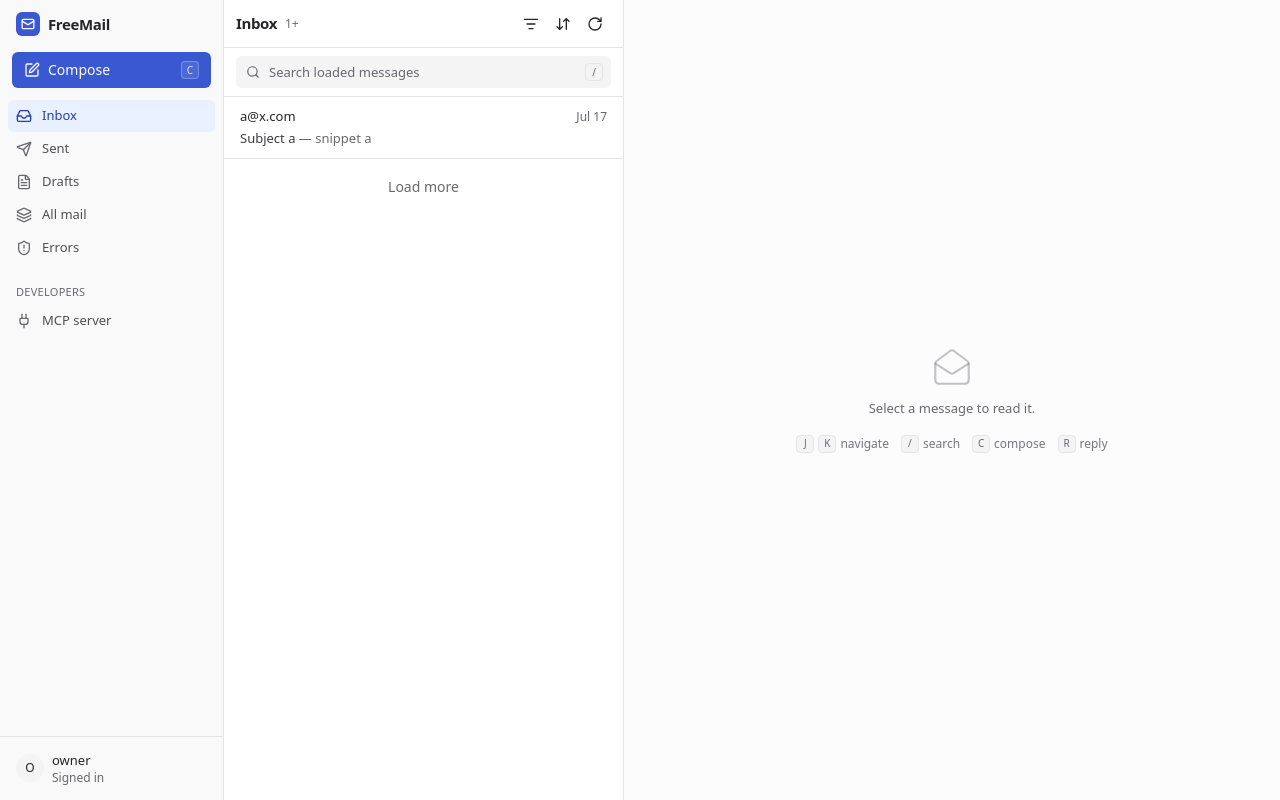
Test: AppShell — refresh › keeps the loaded rows when a refresh fails, and reports it
Expected: the text "Subject a" is shown, [240,128,296,146]
Click the button "Load more" at point(424, 187), box [236,171,611,203]
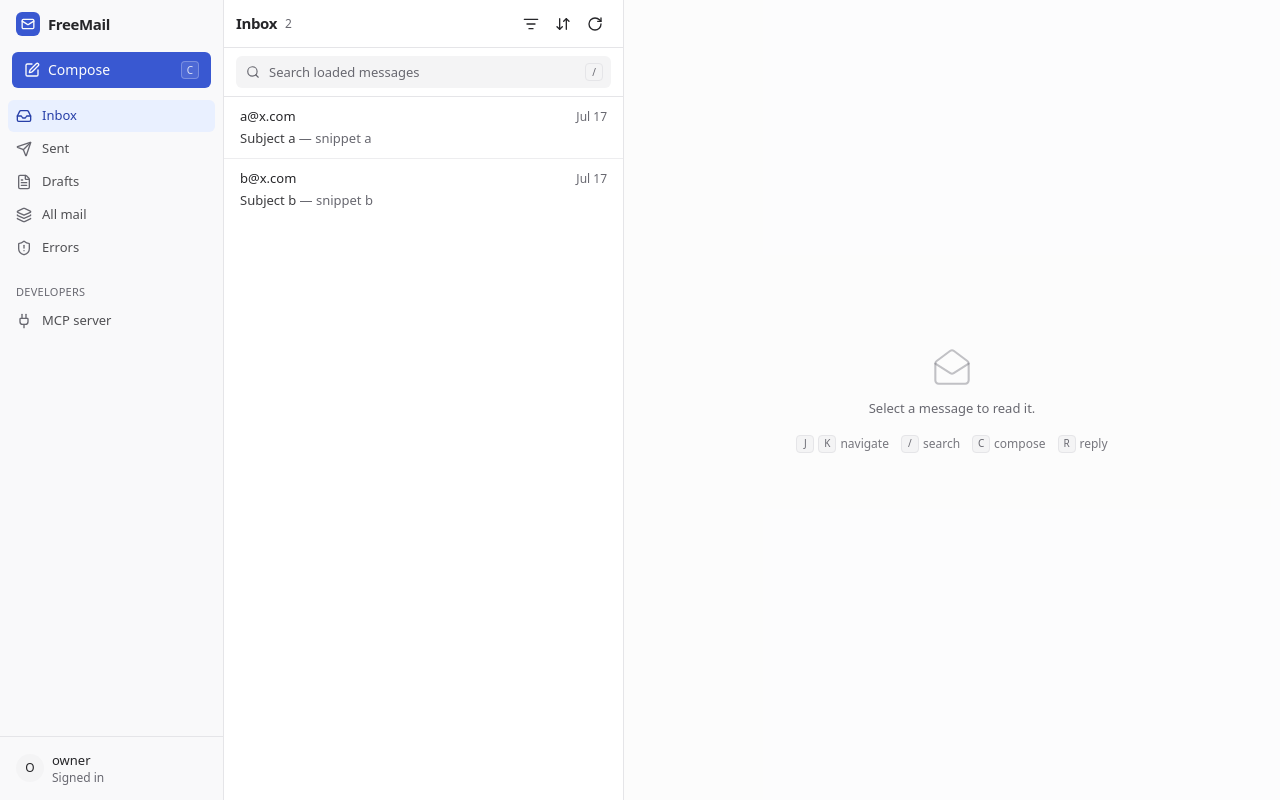
Expected: the text "Subject b" is shown, [240,190,296,208]
Click the button named "Refresh" at point(595, 24), box [579,8,611,40]
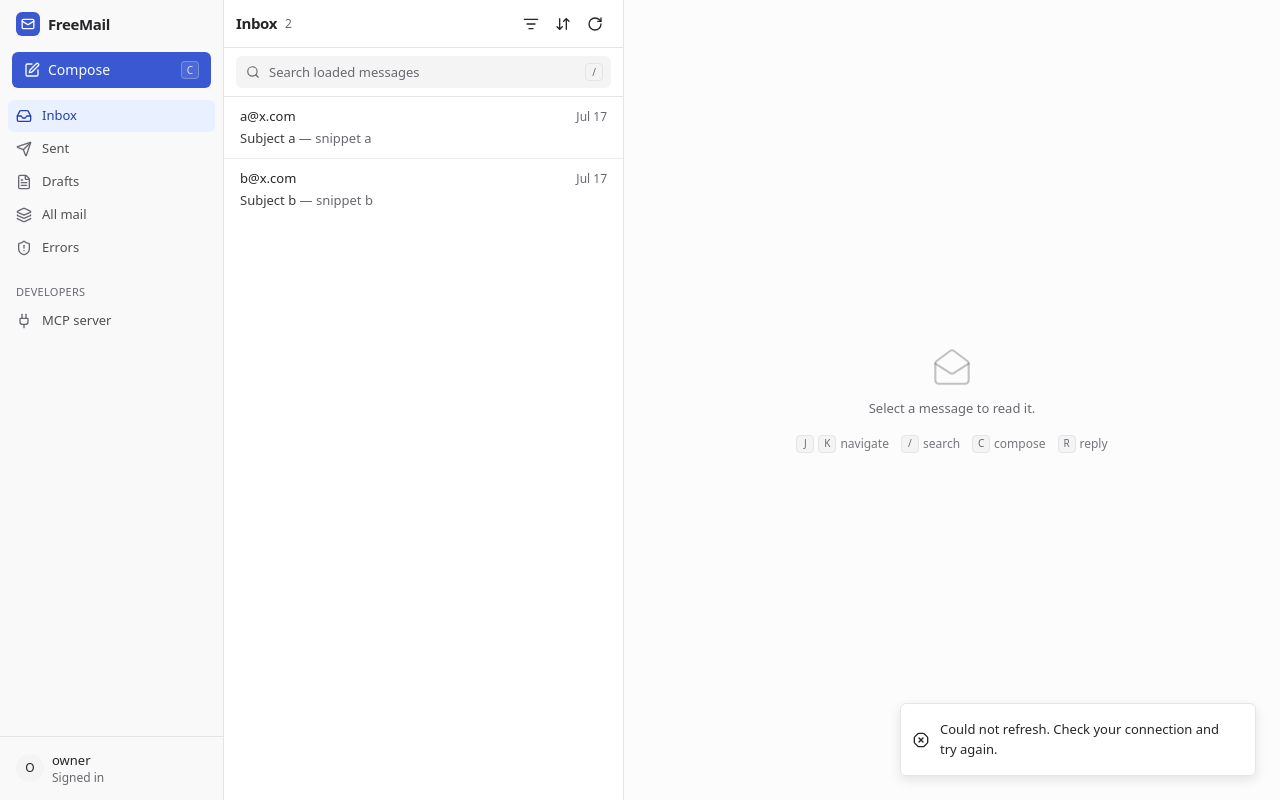
Expected: the text "Could not refresh. Check your connection and try again." is shown, [940,720,1239,759]
